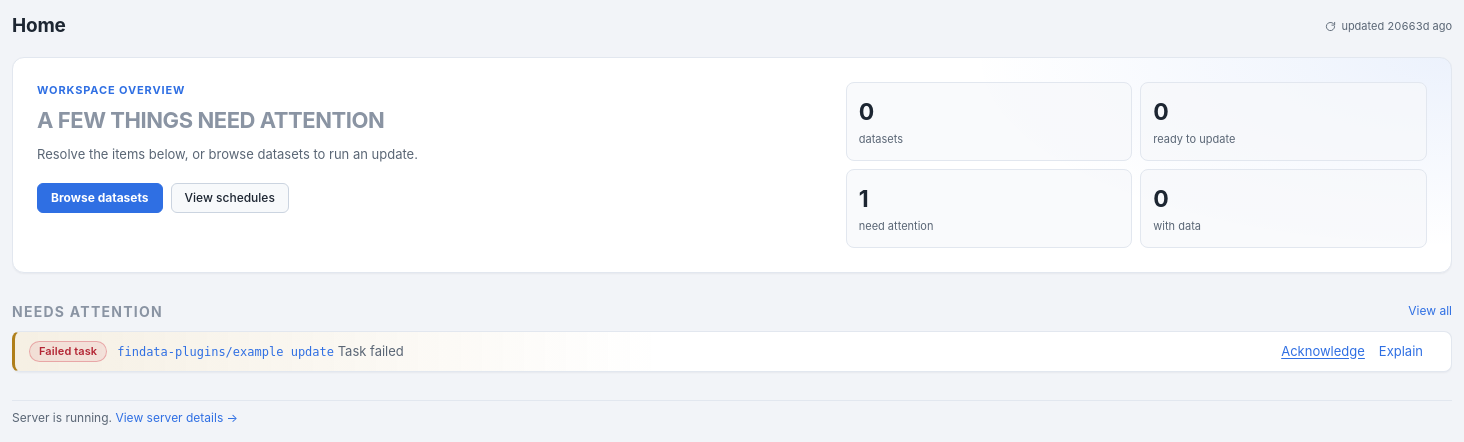
Test case: HomePage › acknowledges failed tasks and removes them from the attention list
The width and height of the screenshot is (1464, 442).
Click the button "Acknowledge" at [1323, 351], box x1=1281 y1=342 x2=1365 y2=361
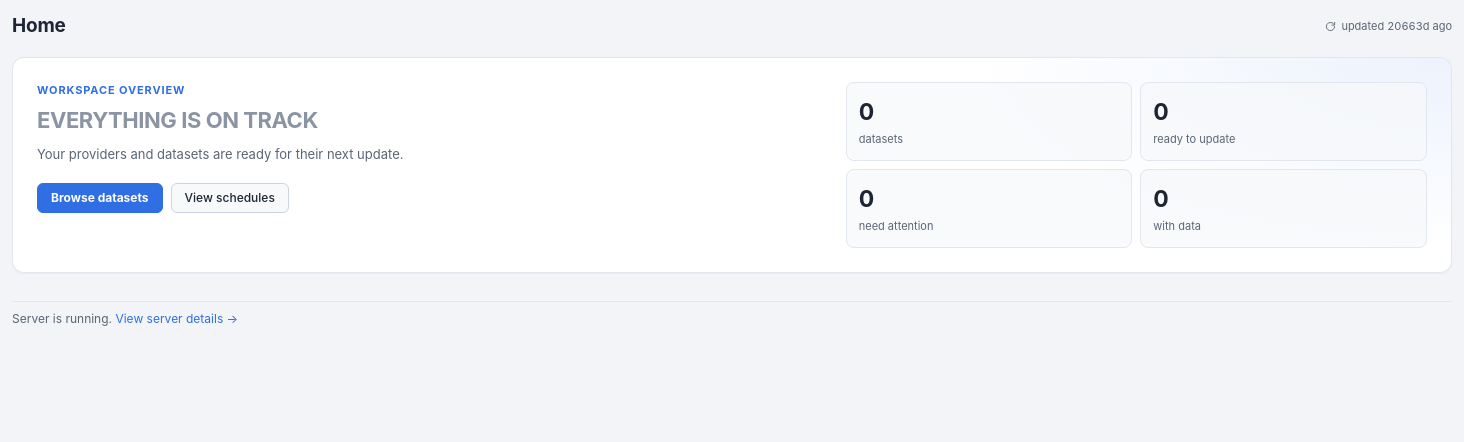
expect the link "Task failed" is gone: met
